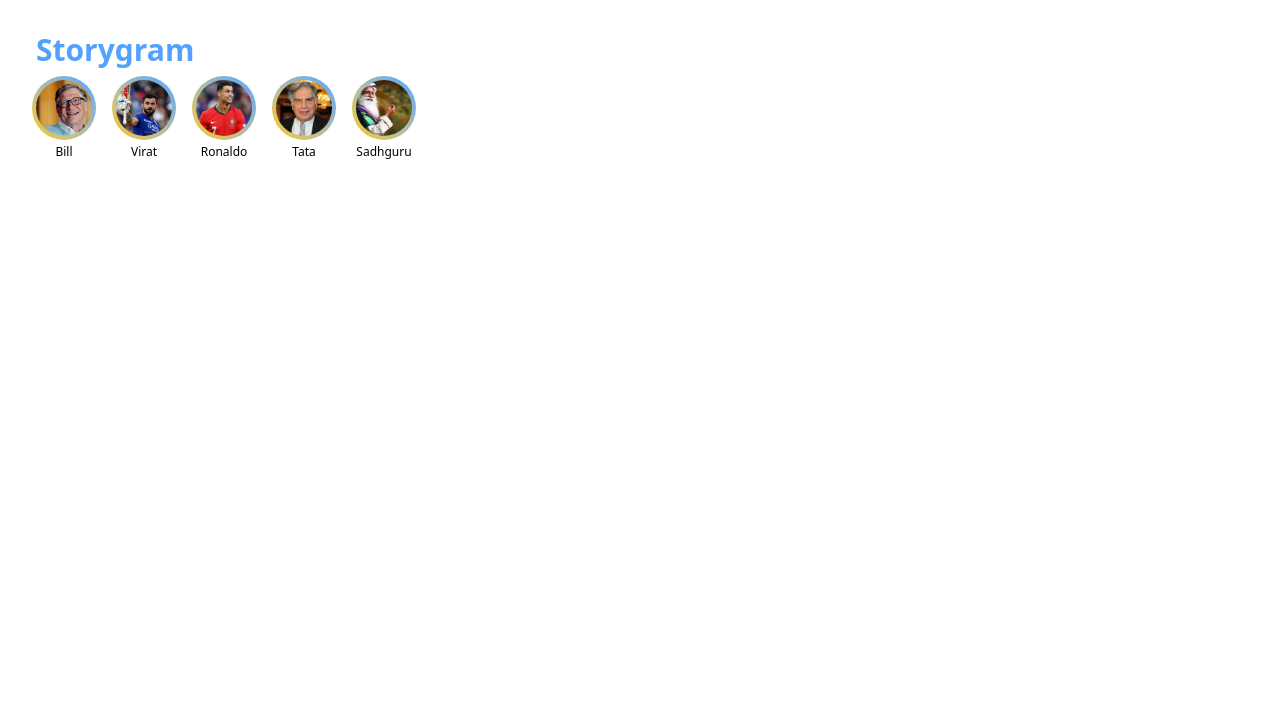
Test: Storygram - Basic Story Thumbnails › should open story viewer with correct content
What coordinates should you click on to do the following:
click the button with test id "story-button-"
I would click on:
 (64, 118)
Its box is [32,76,96,160].
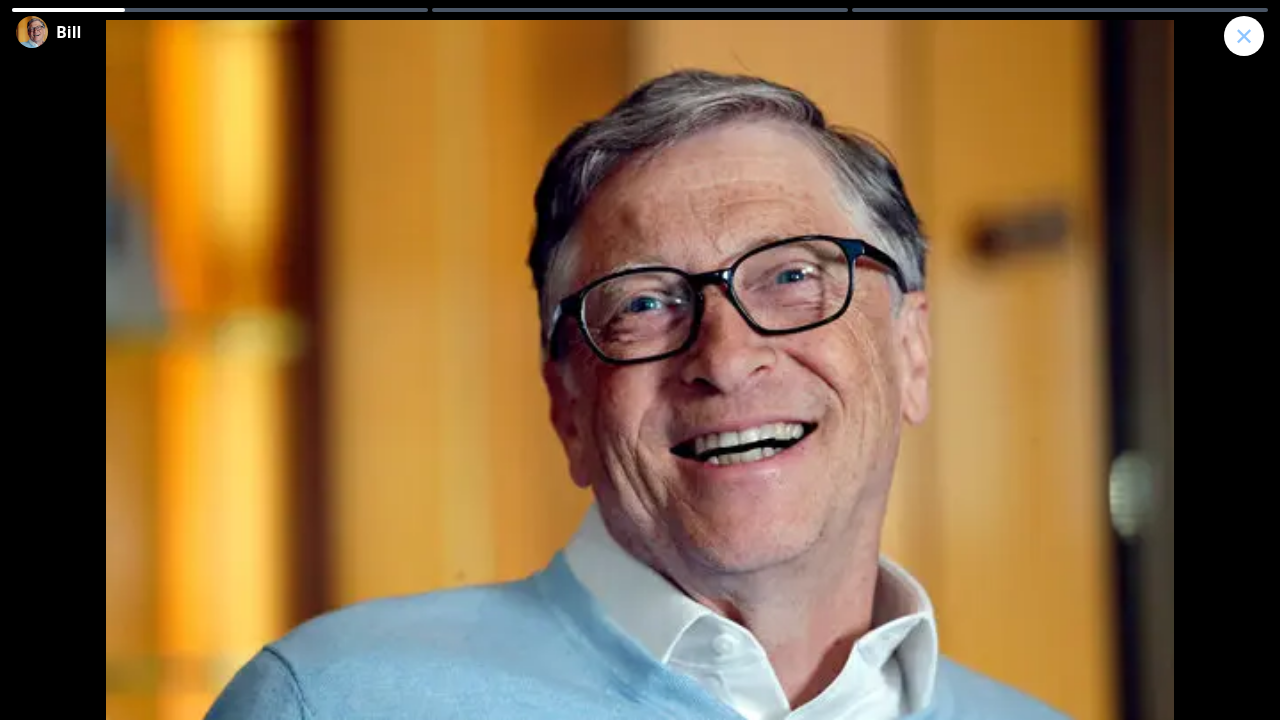
Expected: the picture with test id "story-profile-image" is shown, [16,16,48,48]
Expected: the text with test id "story-profile-name" reads "bill", [56,20,81,44]
Expected: the number of elements with test id "story-progress-bar" is more than 0
